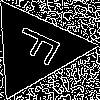F: (10, 23, 72, 72)
